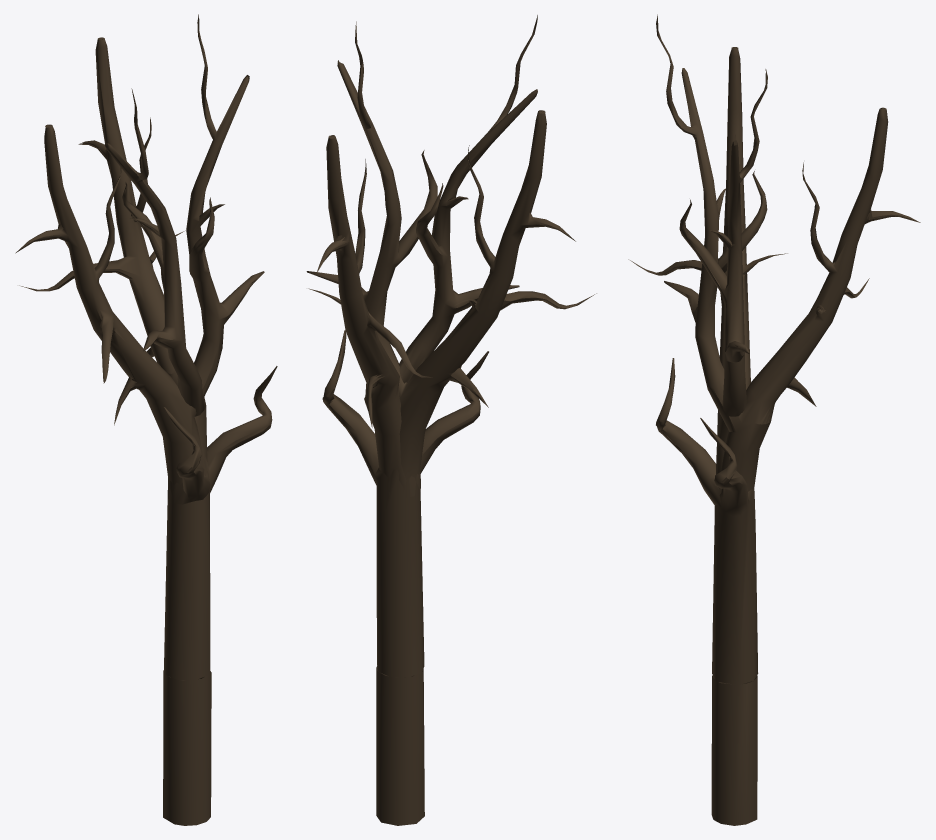
Rendered from tree_winter.glb.
3 renders of one model, left to right at view 1: azimuth 30°, elevation 25°; view 2: azimuth 150°, elevation 25°; view 3: azimuth 270°, elevation 25°, orthographic. The views are drawn at different scales.
Visible parts, largest first — view 1: tree_winter; view 2: tree_winter; view 3: tree_winter.
Part boxes in pixels (x1=…): tree_winter: x1=15, y1=14, x2=277, y2=825; tree_winter: x1=306, y1=15, x2=596, y2=825; tree_winter: x1=628, y1=14, x2=920, y2=825.
Bounding box in the file's own units: 2.92 × 8.5 × 2.98.
